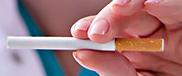smoke: (6, 36, 164, 52)
